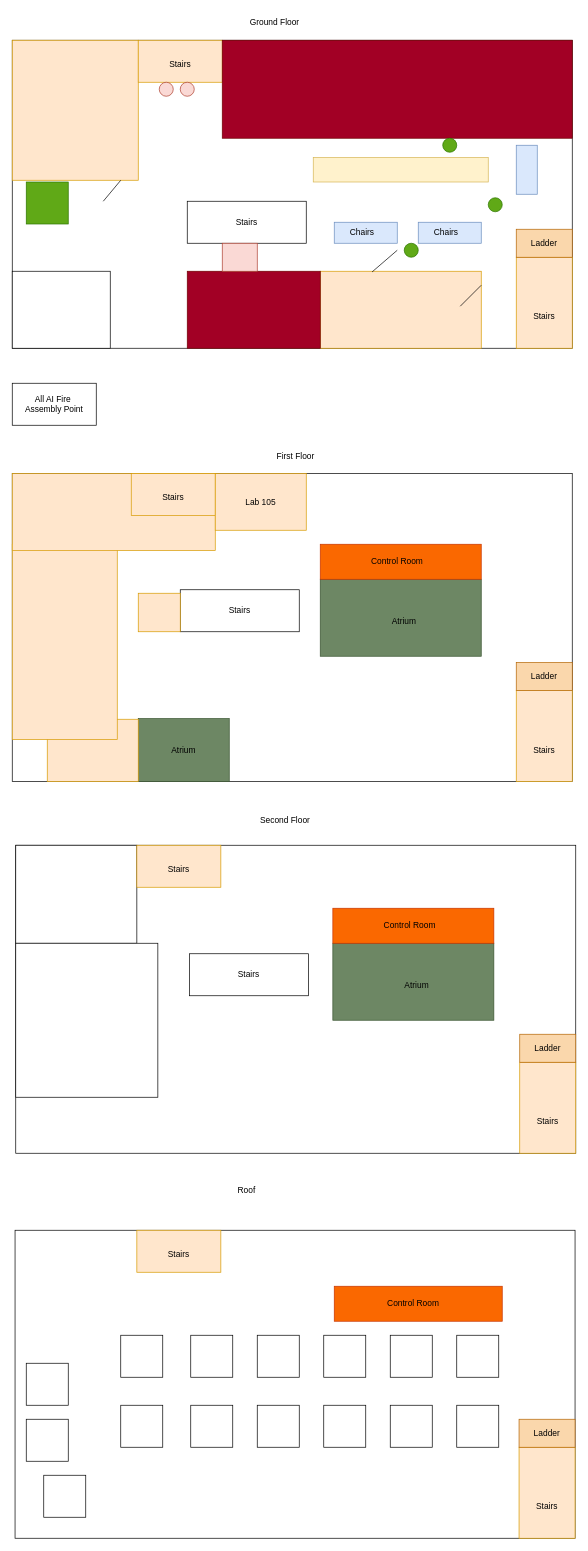
The diagram is 588 pixels wide and 1551 high, and some of its shapes have lost their labels. Here are the shapes that lost their labels. From the top down, the centre of each, then its label:
(400,169): Tables
(61,309): Entrance
(400,309): Utility Room
(64,642): Library
